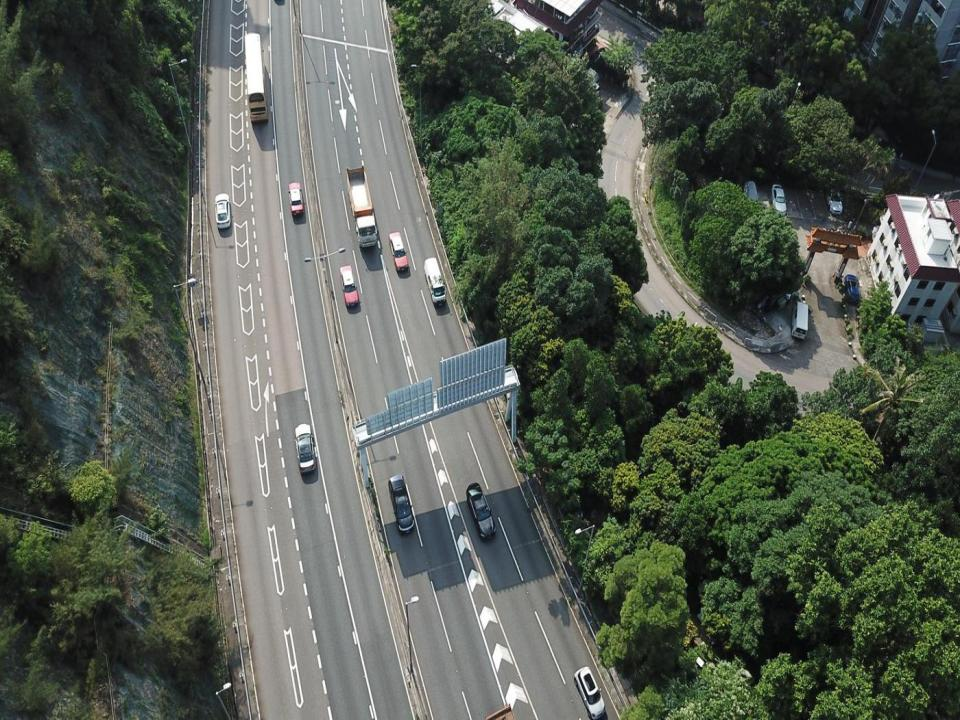bus: (244, 32, 270, 123), (423, 257, 447, 307)
car: (573, 666, 606, 719), (466, 482, 496, 540), (388, 474, 414, 534), (293, 423, 317, 474), (338, 264, 360, 307), (388, 231, 410, 272), (213, 192, 232, 230), (287, 182, 306, 216), (825, 183, 843, 216), (770, 182, 786, 217), (844, 273, 862, 304), (742, 180, 760, 211)
truck: (345, 165, 378, 248)
van: (790, 299, 808, 340)
